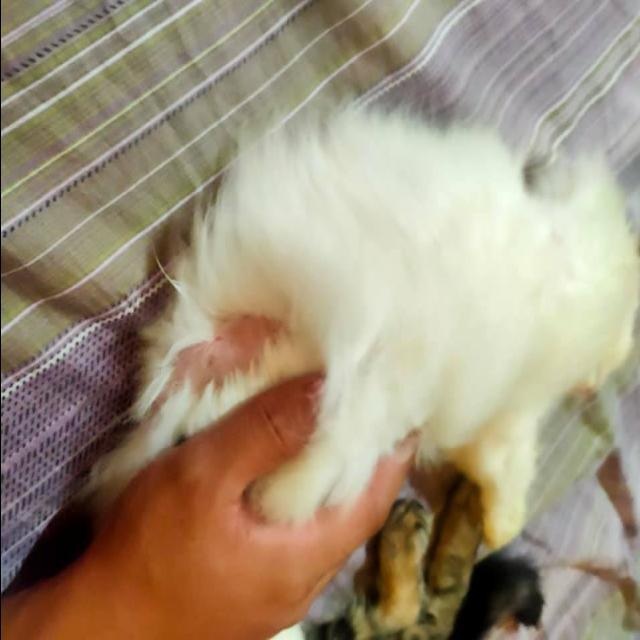hac lao: (156, 305, 278, 404)
